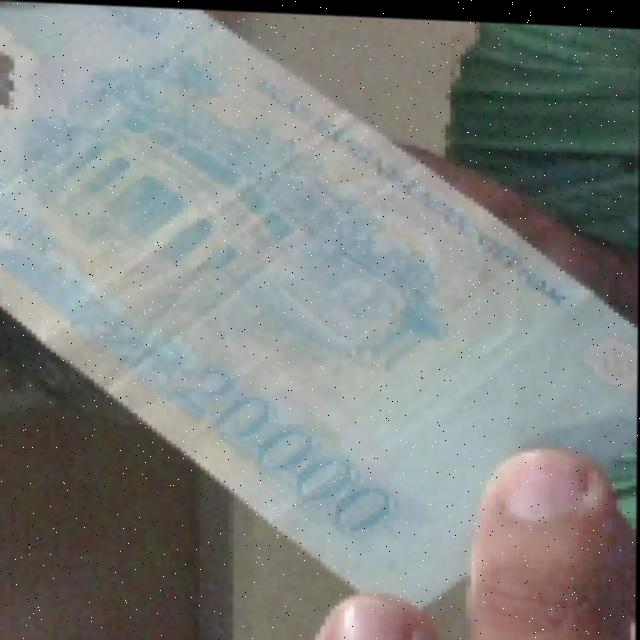20 000 VND: (0, 0, 640, 619)
